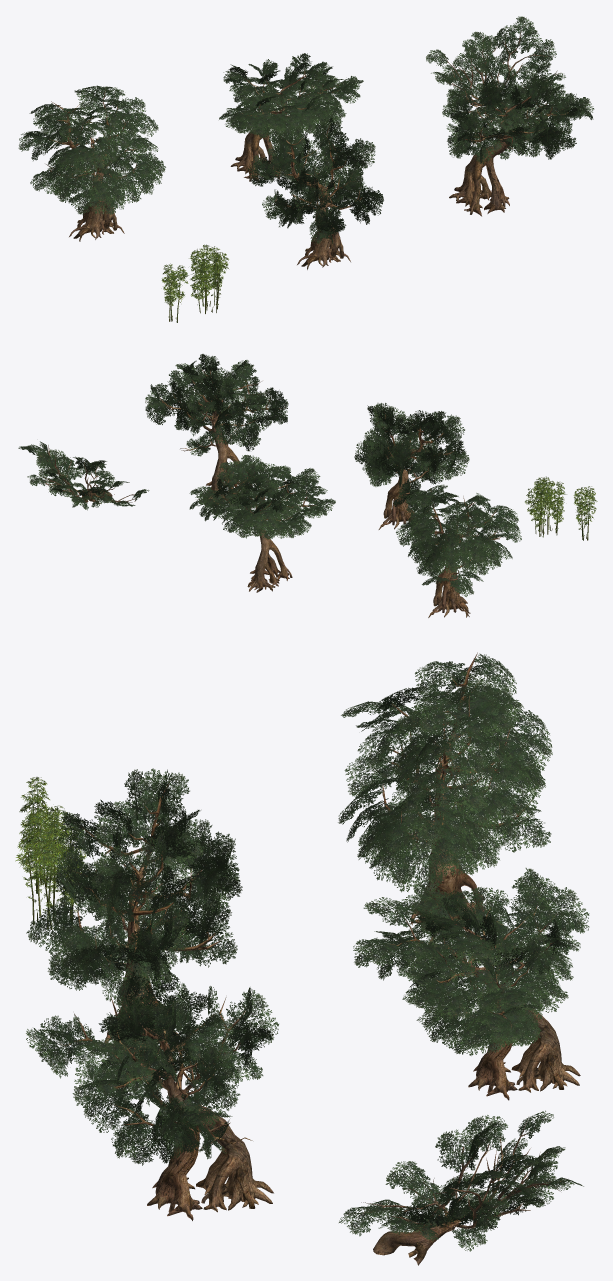
3 views of the same model, one above another, from view 1: azimuth 30°, elevation 25°; view 2: azimuth 150°, elevation 25°; view 3: azimuth 270°, elevation 25° (orthographic). The views are drawn at different scales.
Parts seen in each view (by area): view 1: Tree_006_03, Tree_006_09, Tree_006_08, Tree_006_04, Tree_006_06, Tree_Bamboo_001_02, Tree_Bamboo_001_01; view 2: Tree_006_09, Tree_006_03, Tree_006_04, Tree_006_08, Tree_006_06, Tree_Bamboo_001_02, Tree_Bamboo_001_01; view 3: Tree_006_03, Tree_006_09, Tree_006_08, Tree_006_04, Tree_006_06, Tree_Bamboo_001_02, Tree_Bamboo_001_01.
Boxes of the visible parts, <box> form: Tree_006_03: <box>18,85,165,241</box>; Tree_006_09: <box>446,76,594,216</box>; Tree_006_08: <box>248,117,383,269</box>; Tree_006_04: <box>219,53,363,181</box>; Tree_006_06: <box>426,16,565,126</box>; Tree_Bamboo_001_02: <box>189,244,228,313</box>; Tree_Bamboo_001_01: <box>161,263,188,322</box>; Tree_006_09: <box>145,354,288,501</box>; Tree_006_03: <box>396,484,521,617</box>; Tree_006_04: <box>189,455,335,592</box>; Tree_006_08: <box>354,403,469,529</box>; Tree_006_06: <box>18,441,149,510</box>; Tree_Bamboo_001_02: <box>525,476,566,537</box>; Tree_Bamboo_001_01: <box>573,486,597,540</box>; Tree_006_03: <box>338,652,552,943</box>; Tree_006_09: <box>26,971,278,1220</box>; Tree_006_08: <box>26,768,242,1053</box>; Tree_006_04: <box>353,868,589,1100</box>; Tree_006_06: <box>339,1110,583,1265</box>; Tree_Bamboo_001_02: <box>15,805,87,929</box>; Tree_Bamboo_001_01: <box>19,777,64,893</box>.
Size of the model in its own units: 40.36 by 10.38 by 21.34.
Materials: 7 (7 with a texture image).
